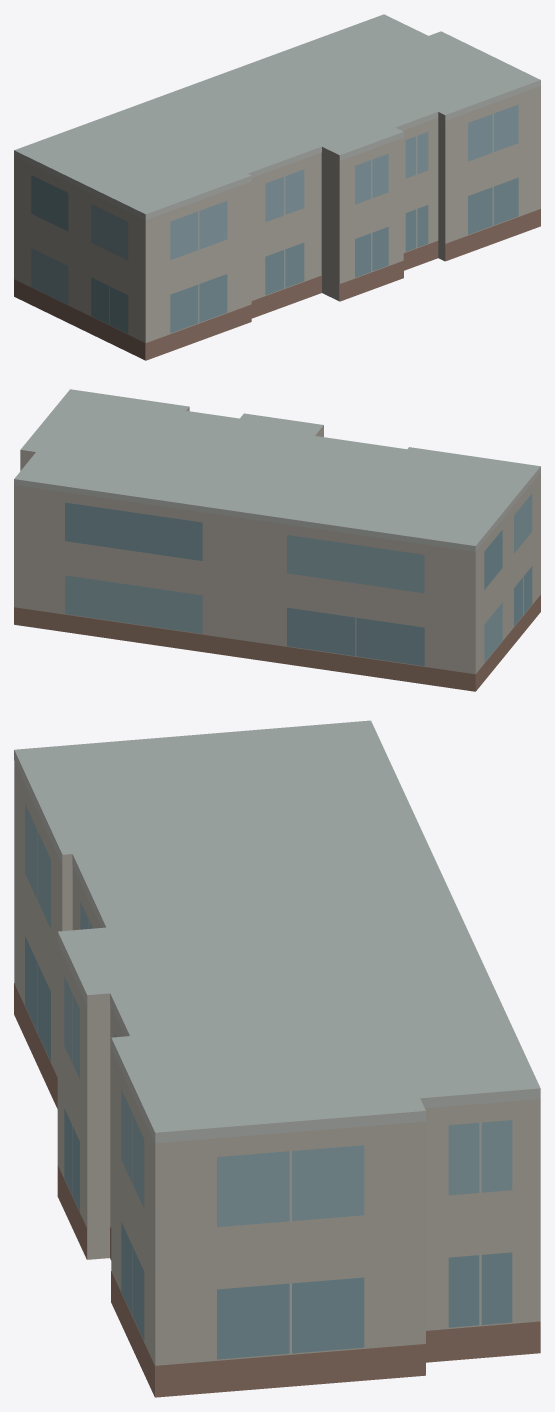
Rendered from survey-upis-32818896.glb.
3 renders of one model, top to bottom at view 1: azimuth 30°, elevation 25°; view 2: azimuth 150°, elevation 25°; view 3: azimuth 270°, elevation 25°, orthographic. The views are drawn at different scales.
Visible parts, largest first — view 1: survey-upis-32818896.tmp; view 2: survey-upis-32818896.tmp; view 3: survey-upis-32818896.tmp.
Boxes of the visible parts, bbox=[...] form: survey-upis-32818896.tmp: bbox=[14, 14, 540, 360]; survey-upis-32818896.tmp: bbox=[14, 389, 540, 691]; survey-upis-32818896.tmp: bbox=[14, 720, 540, 1397].
Bounding box in the file's own units: 20.39 × 6.1 × 11.01.
